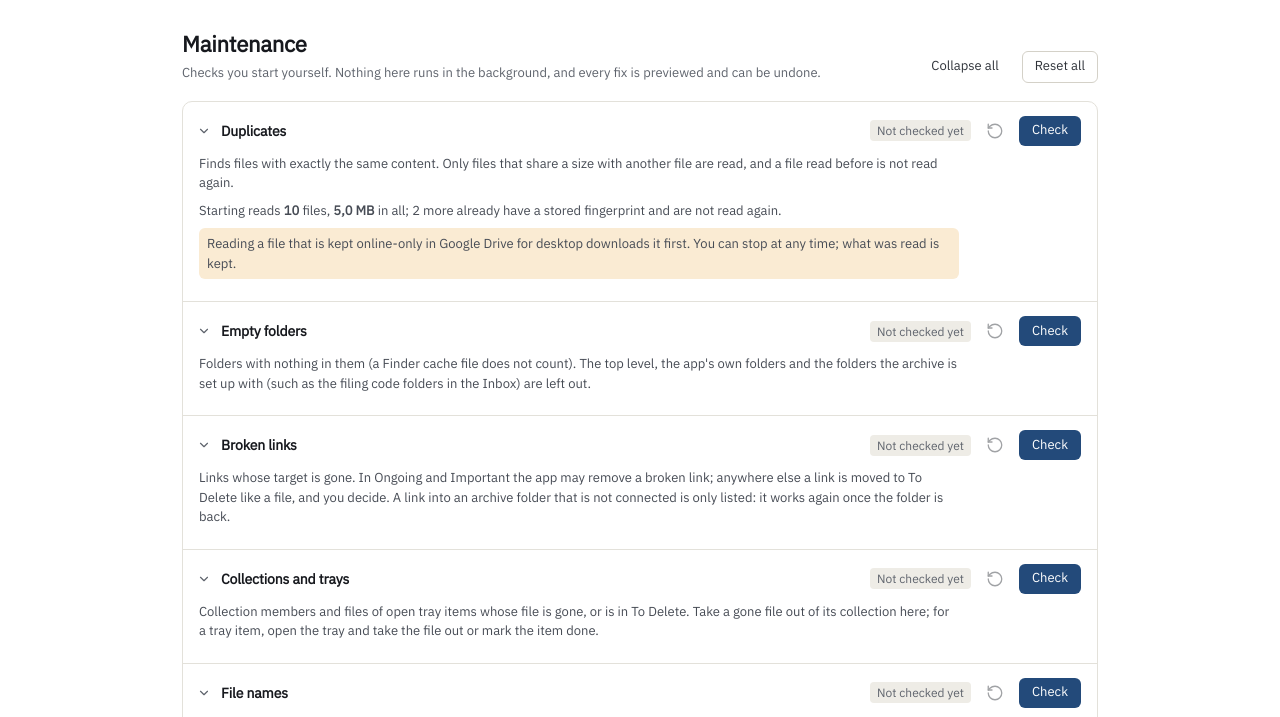
Test case: Maintenance screen › every copy replaced with a link says so
Click the button "Check" in the row of "Duplicates": (1050,131) [1019,116,1081,146]
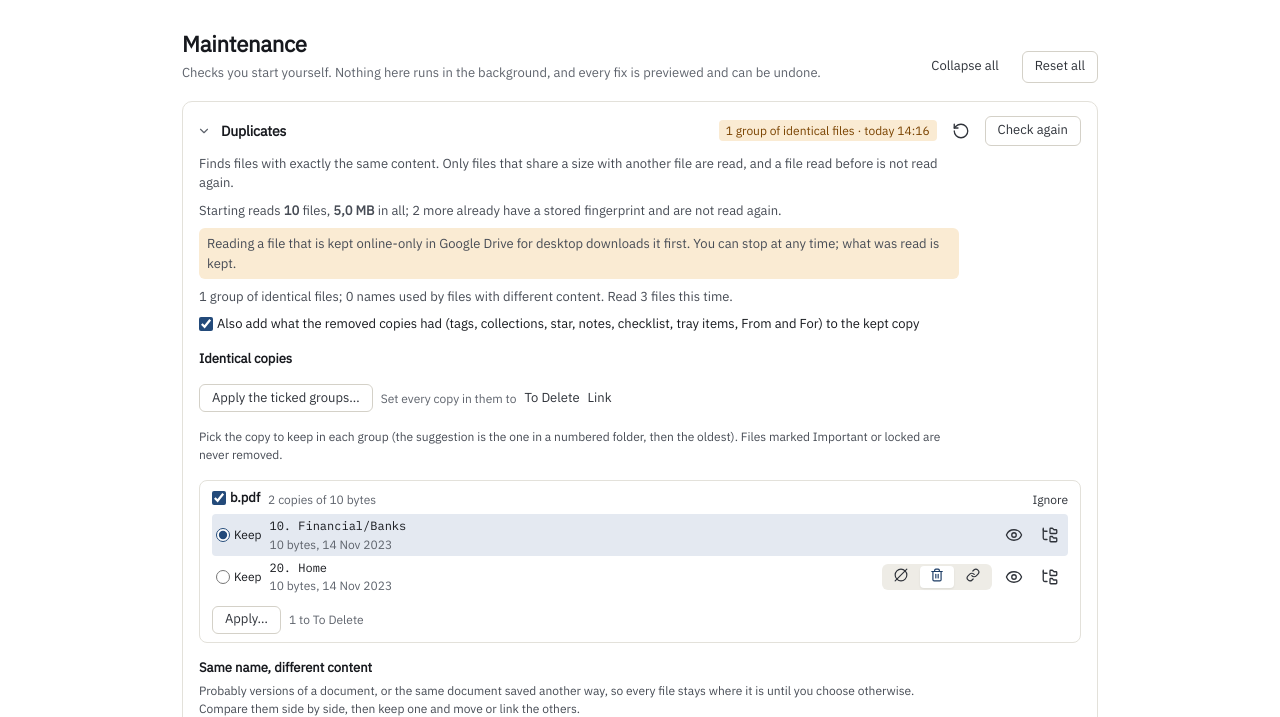
Click the button named "Link": (973,577) [956,566,990,588]
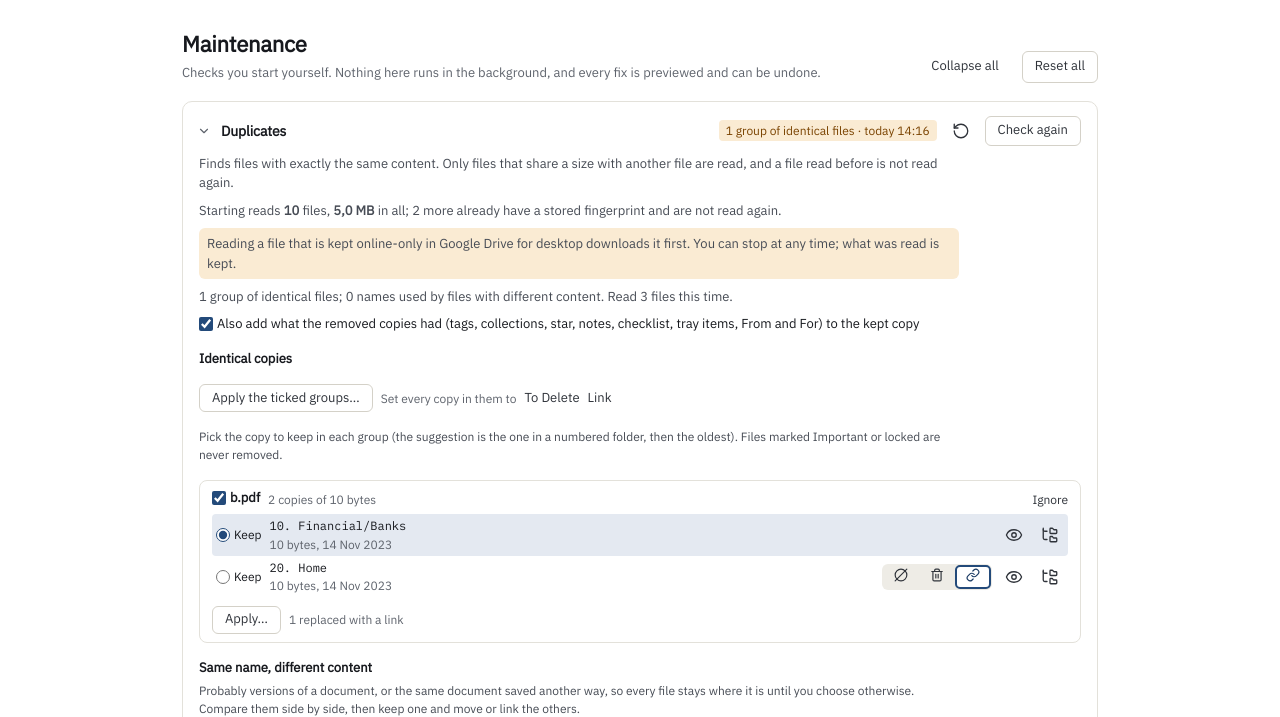
Click the button "Apply…": (246,620) [212,606,281,634]
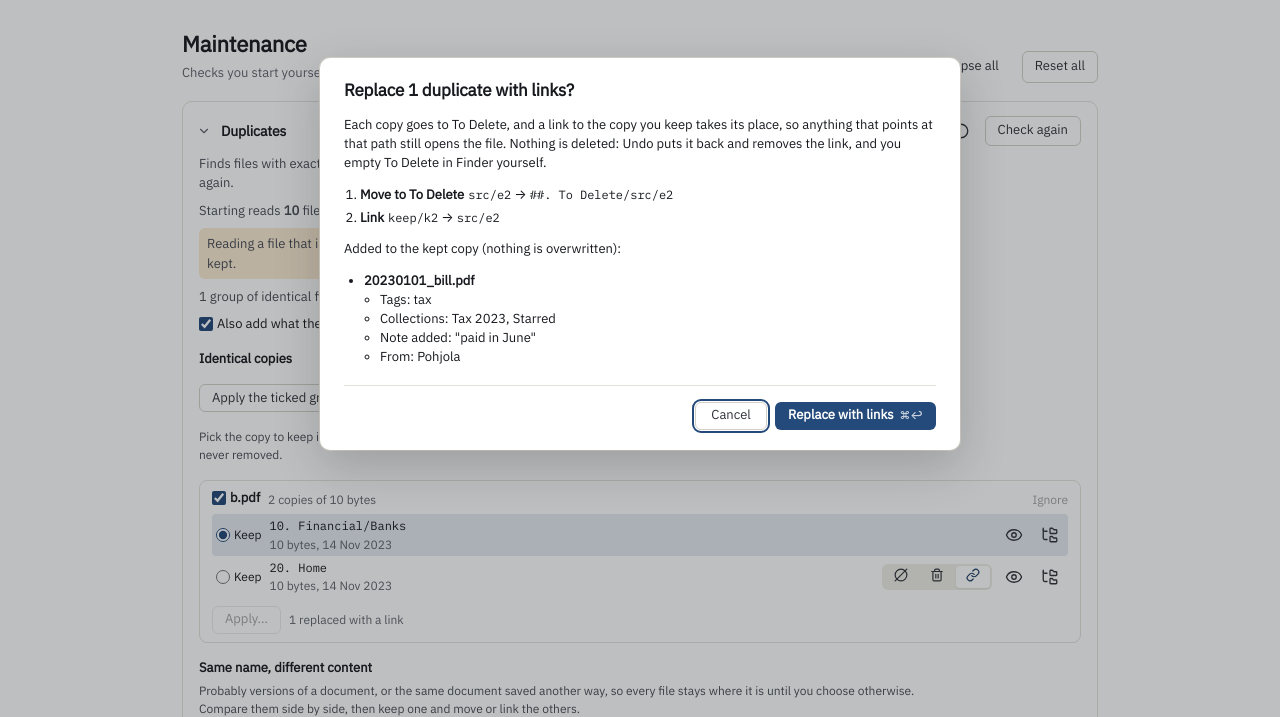
Click the button "Replace with links⌘↩": (856,416) [775,402,936,430]
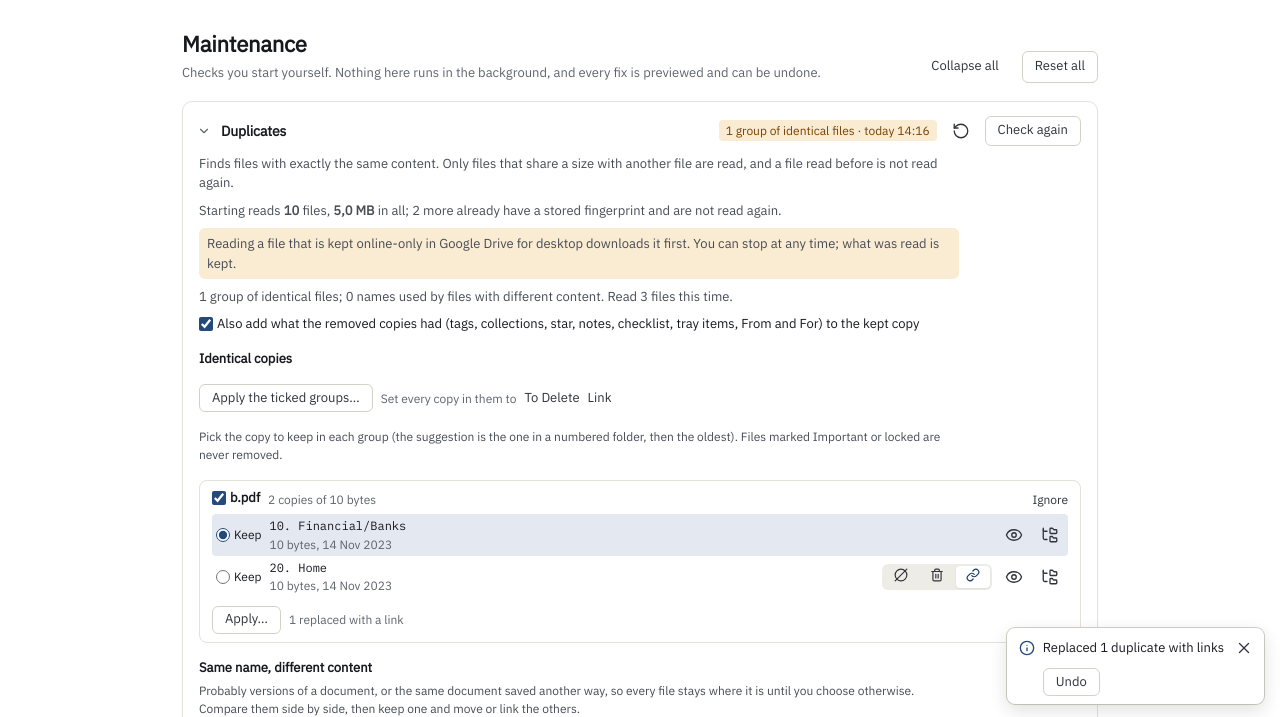
Expected: the text "Replaced 1 duplicate with links" is shown, [1043,639,1224,657]
